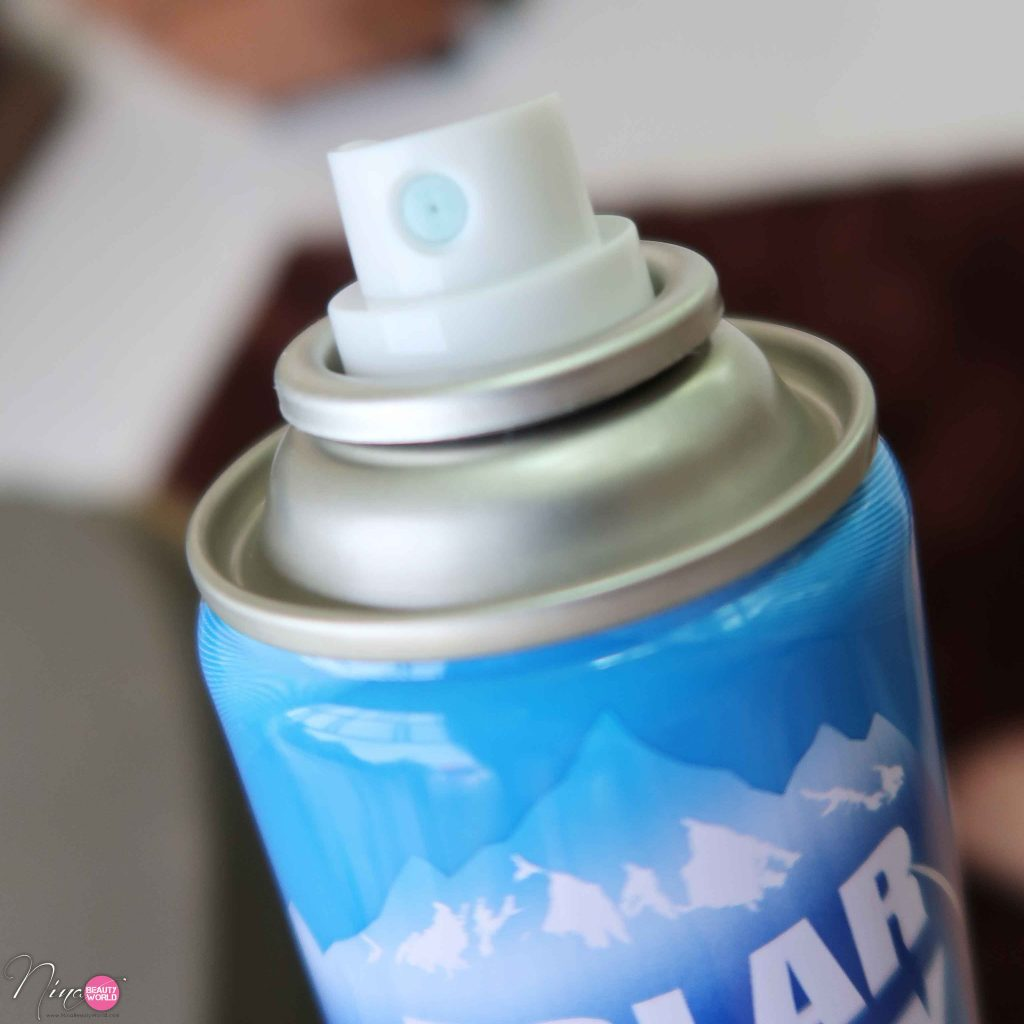Aerosol_cans: (174, 82, 978, 1024)
